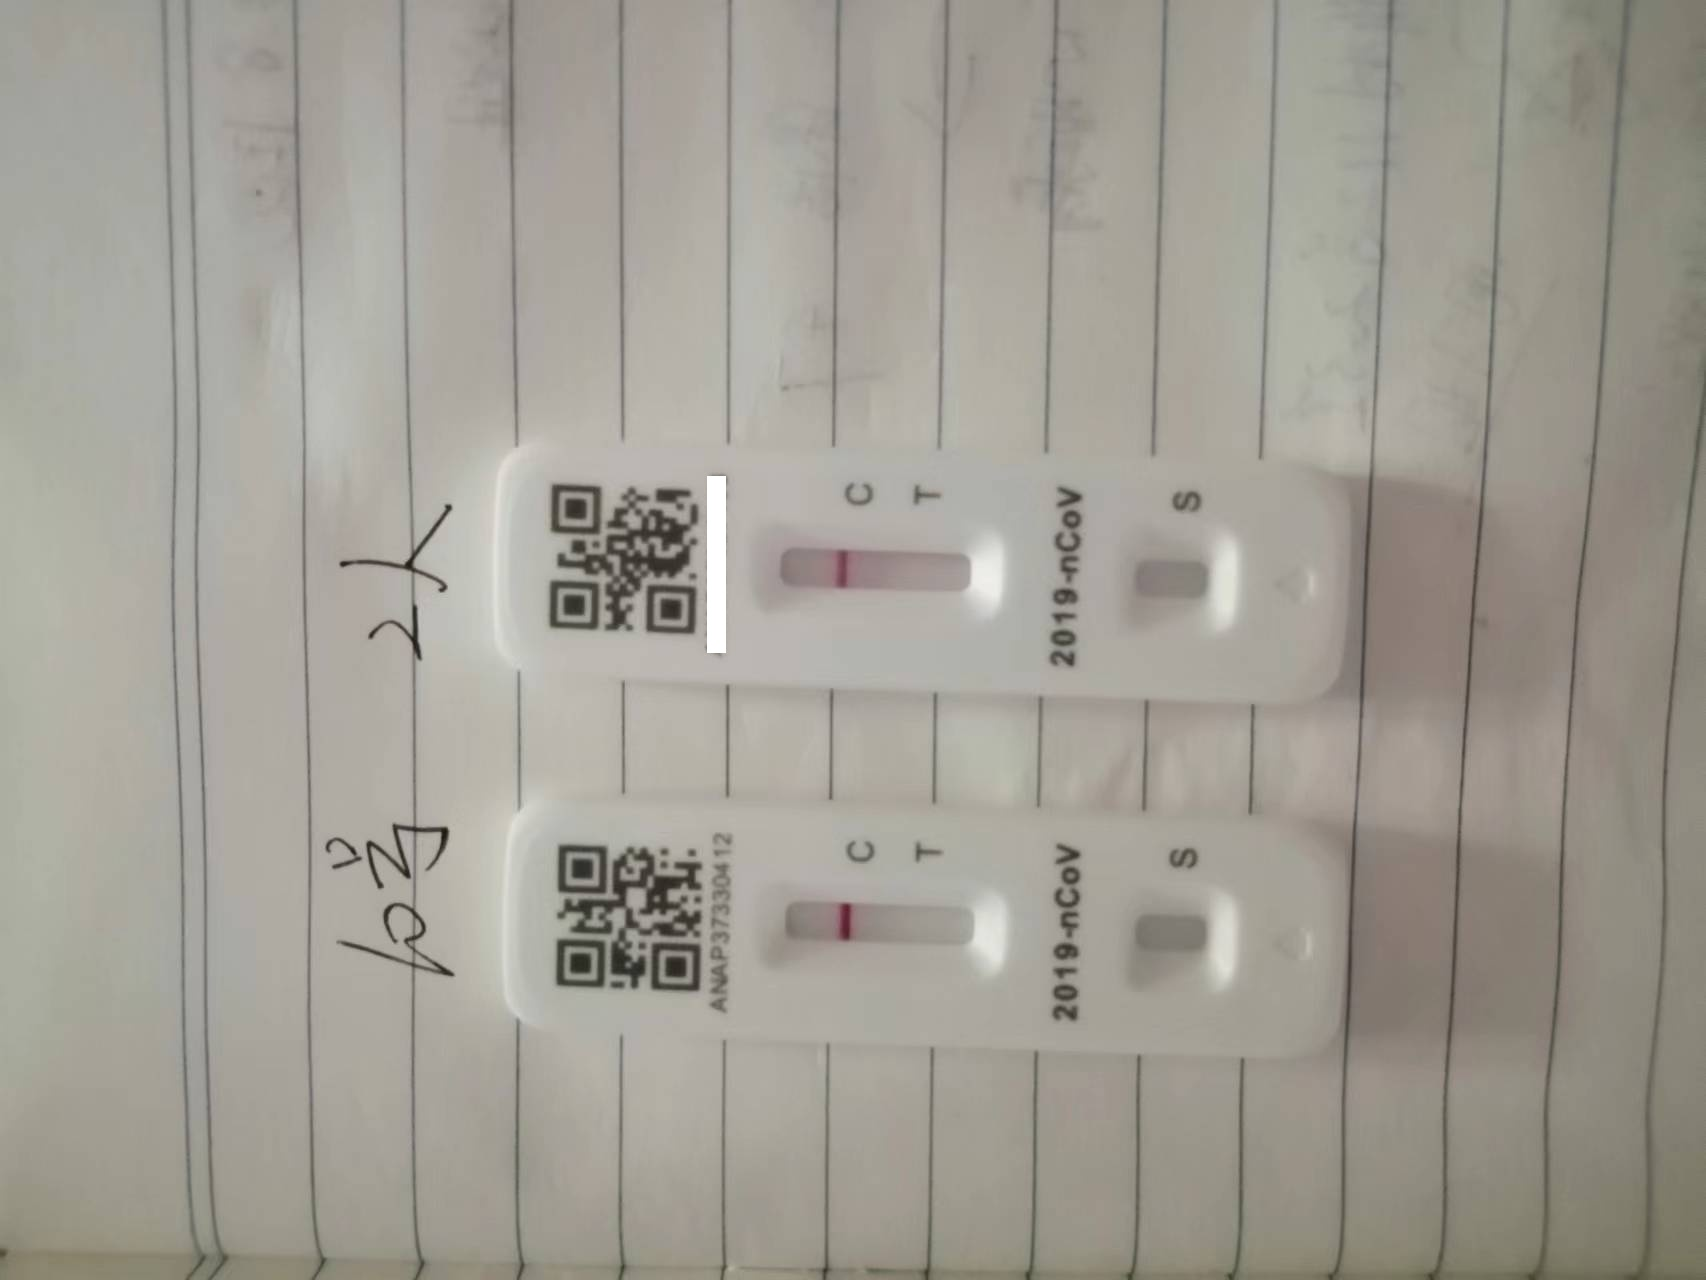negative: (754, 893, 1008, 969), (764, 541, 984, 606)
